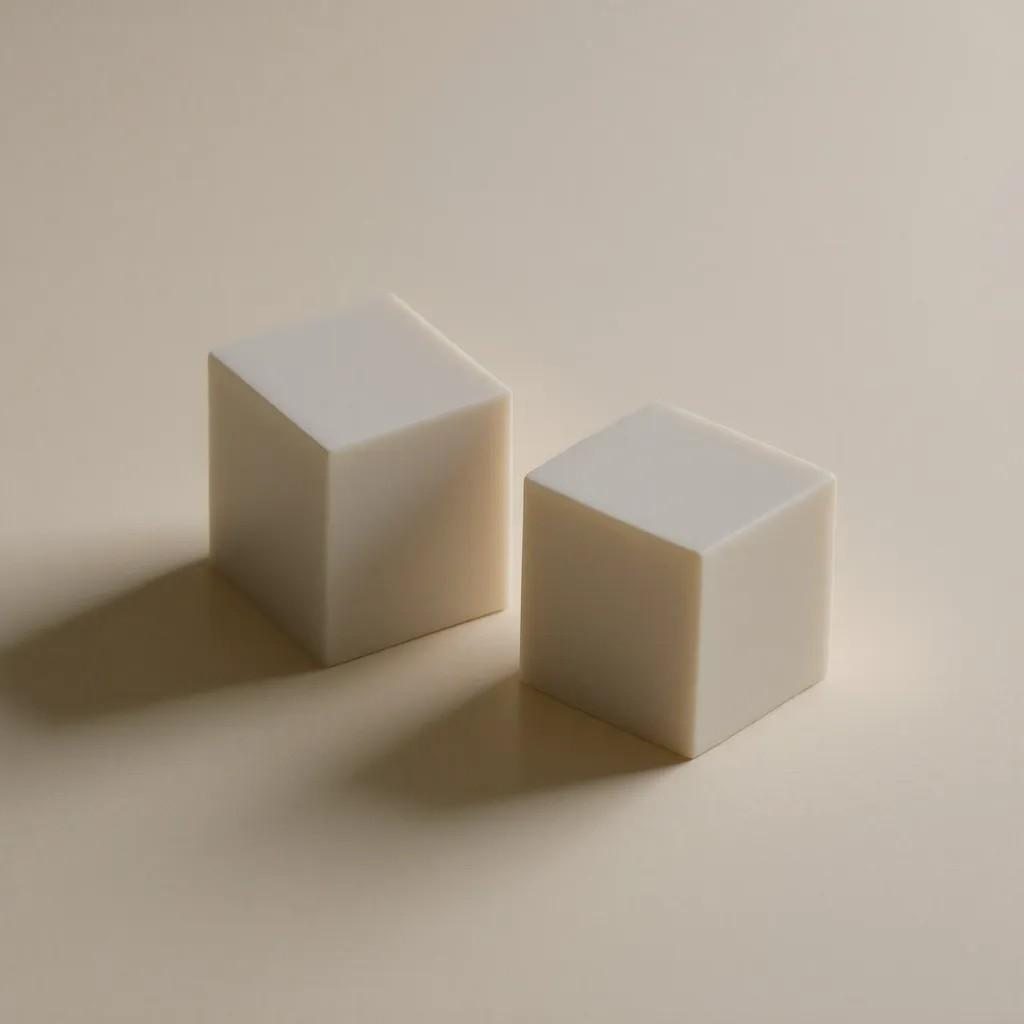cube: (205, 289, 512, 667), (518, 399, 837, 760)
